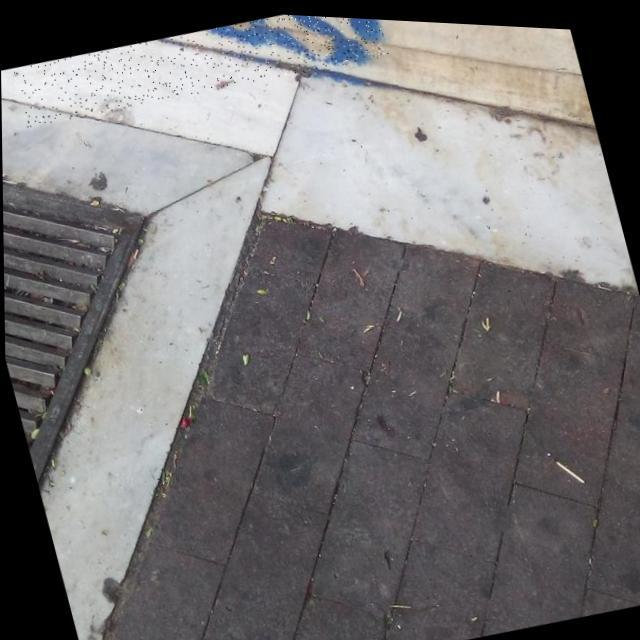-: (10, 0, 389, 142)
